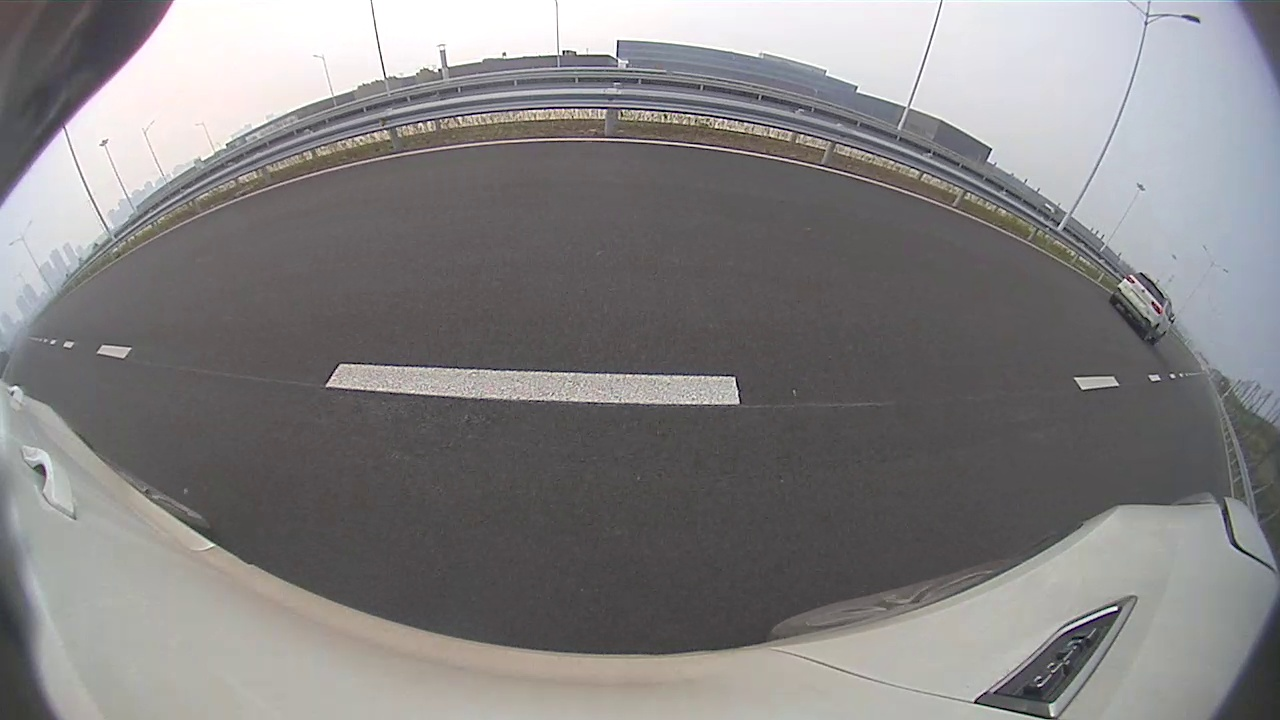car: (1109, 272, 1176, 345)
